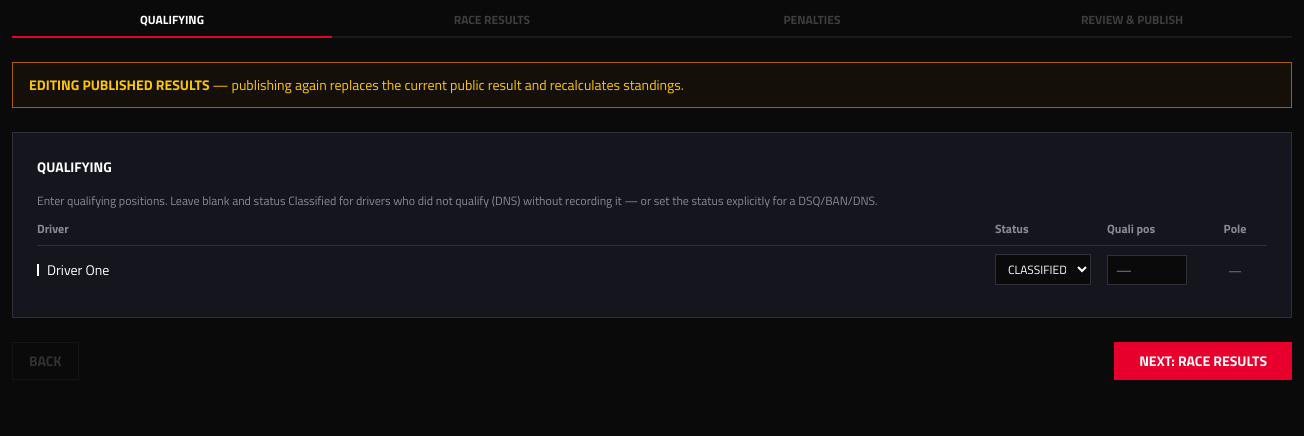
Test: ResultStepper correction mode (M9) › prefills from published data and ignores a stale localStorage draft
This screenshot has width=1304, height=436.
expect the heading "Qualifying" is shown: met, box [37,156,112,177]
Click the button "Next: Race Results" at (1203, 361), box [1114,342,1292,380]
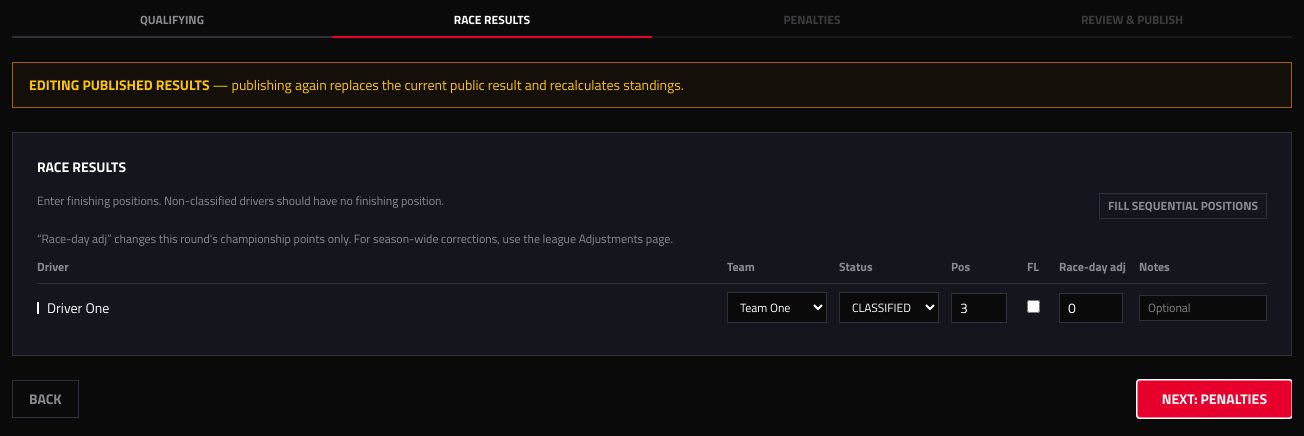
expect the number field with placeholder "—" holds "3": met, box [951,292,1007,322]
